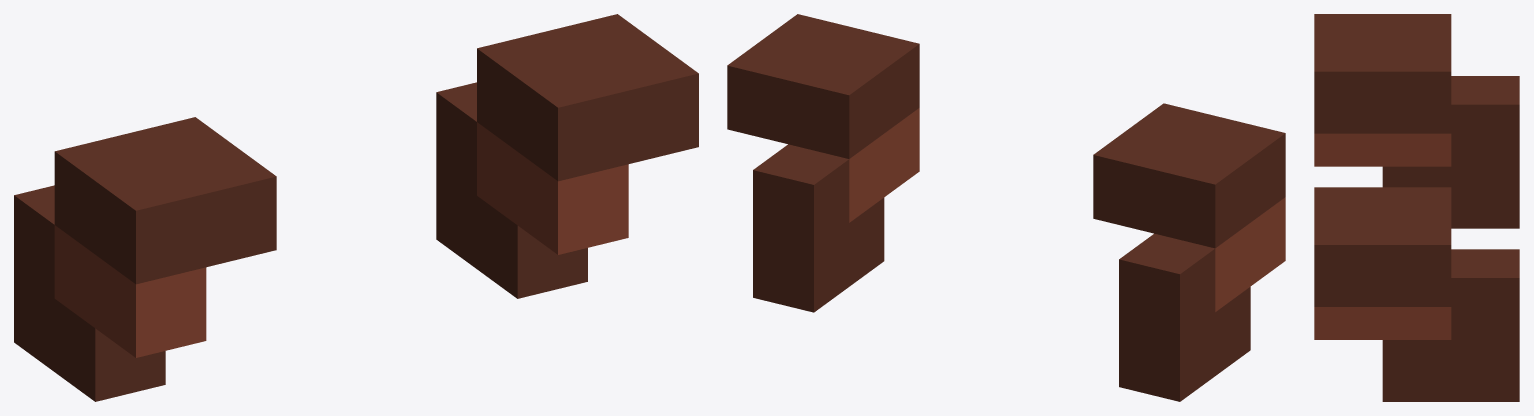
Rendered from CMU3DWornCMMaskGasMask.glb.
3 views of the same model, side by side, from view 1: azimuth 30°, elevation 25°; view 2: azimuth 150°, elevation 25°; view 3: azimuth 270°, elevation 25° (orthographic). The views are drawn at different scales.
Visible parts, largest first — view 1: source volume 2, source volume 6, source volume 1, source volume 5, source volume 7, source volume 3, source volume 4, source volume 8; view 2: source volume 2, source volume 6, source volume 3, source volume 7, source volume 8, source volume 4, source volume 1, source volume 5; view 3: source volume 2, source volume 6, source volume 7, source volume 4, source volume 8, source volume 3, source volume 1, source volume 5.
Boxes of the visible parts, x1,y1,x2,y2 form: source volume 2: [54, 117, 276, 284]; source volume 6: [477, 14, 698, 181]; source volume 1: [54, 225, 206, 357]; source volume 5: [477, 122, 628, 254]; source volume 7: [436, 166, 587, 298]; source volume 3: [14, 269, 165, 401]; source volume 4: [14, 185, 54, 298]; source volume 8: [436, 82, 476, 195]; source volume 2: [1093, 103, 1285, 248]; source volume 6: [727, 14, 919, 158]; source volume 3: [1119, 287, 1250, 401]; source volume 7: [753, 197, 884, 312]; source volume 8: [753, 144, 849, 248]; source volume 4: [1119, 233, 1215, 337]; source volume 1: [1215, 197, 1285, 311]; source volume 5: [849, 108, 919, 222]; source volume 2: [1314, 14, 1451, 133]; source volume 6: [1314, 187, 1451, 306]; source volume 7: [1382, 340, 1519, 401]; source volume 4: [1451, 76, 1519, 166]; source volume 8: [1451, 249, 1519, 339]; source volume 3: [1382, 166, 1519, 228]; source volume 1: [1314, 133, 1451, 166]; source volume 5: [1314, 307, 1451, 339].
Bounding box in the file's own units: 0.4 × 0.15 × 0.15.
